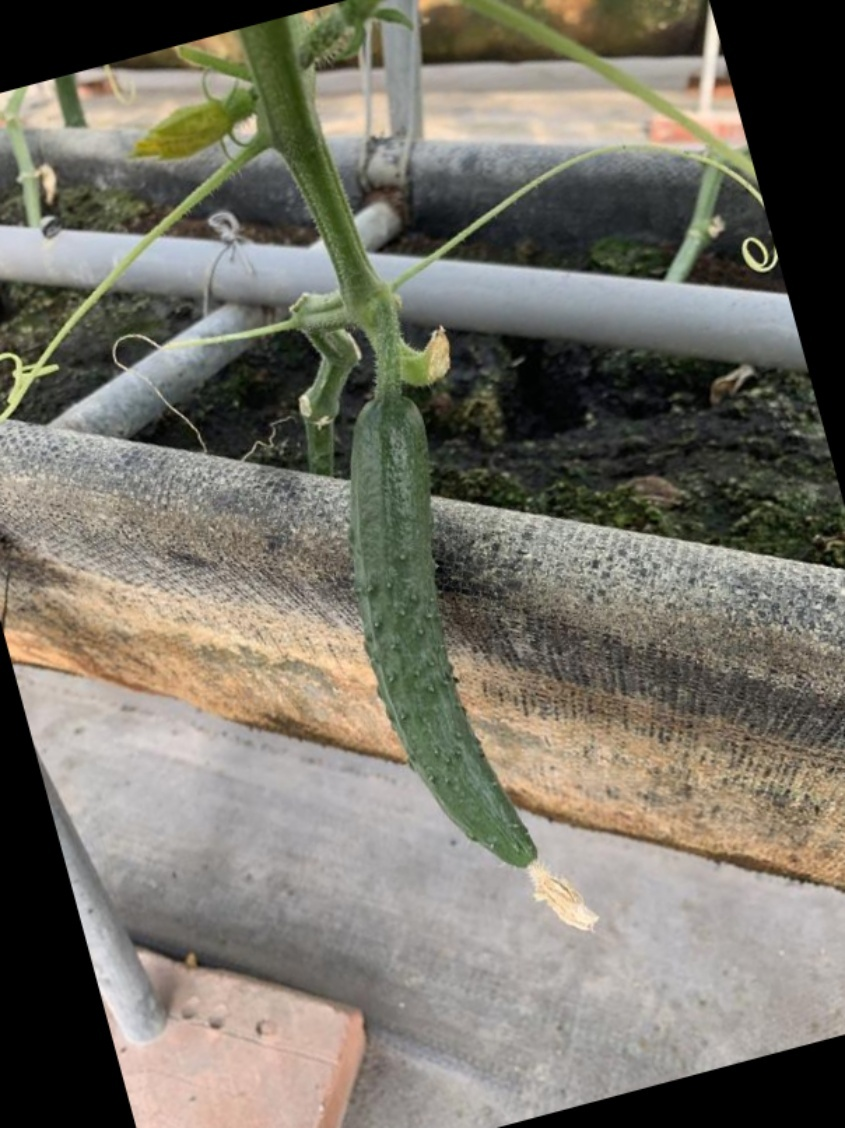mature: (331, 394, 551, 895)
